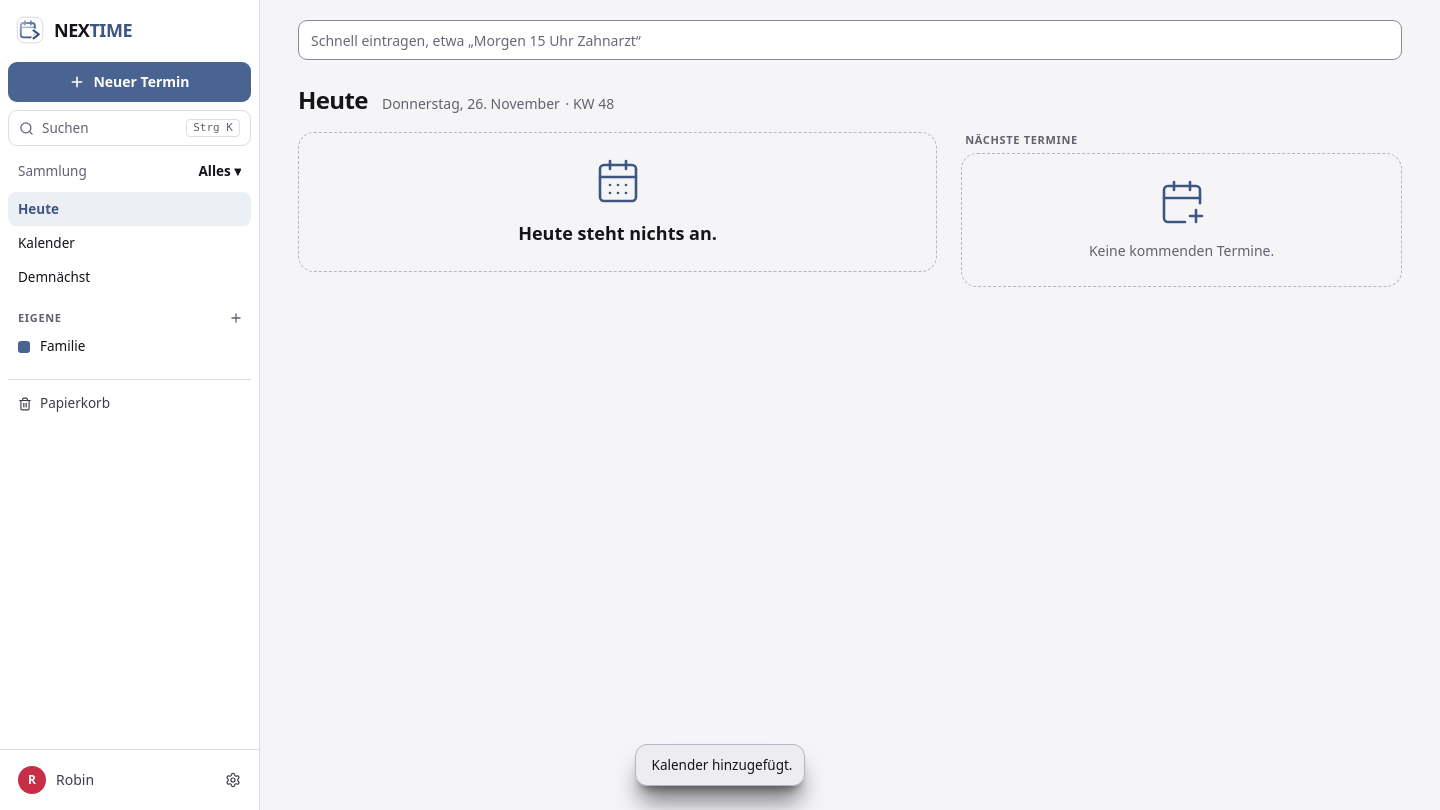
Test case: TIME-17 holidays and school holidays › TIME-17 AC-3 AC-4 EC-17 a country, several states, all 16 to tick without scrolling sideways, the school switch and the sentence
This screenshot has width=1440, height=810.
Later steps or results of the test are not shown.
Click the button named "Kalender hinzufügen" at (236, 318), box [225, 307, 247, 329]
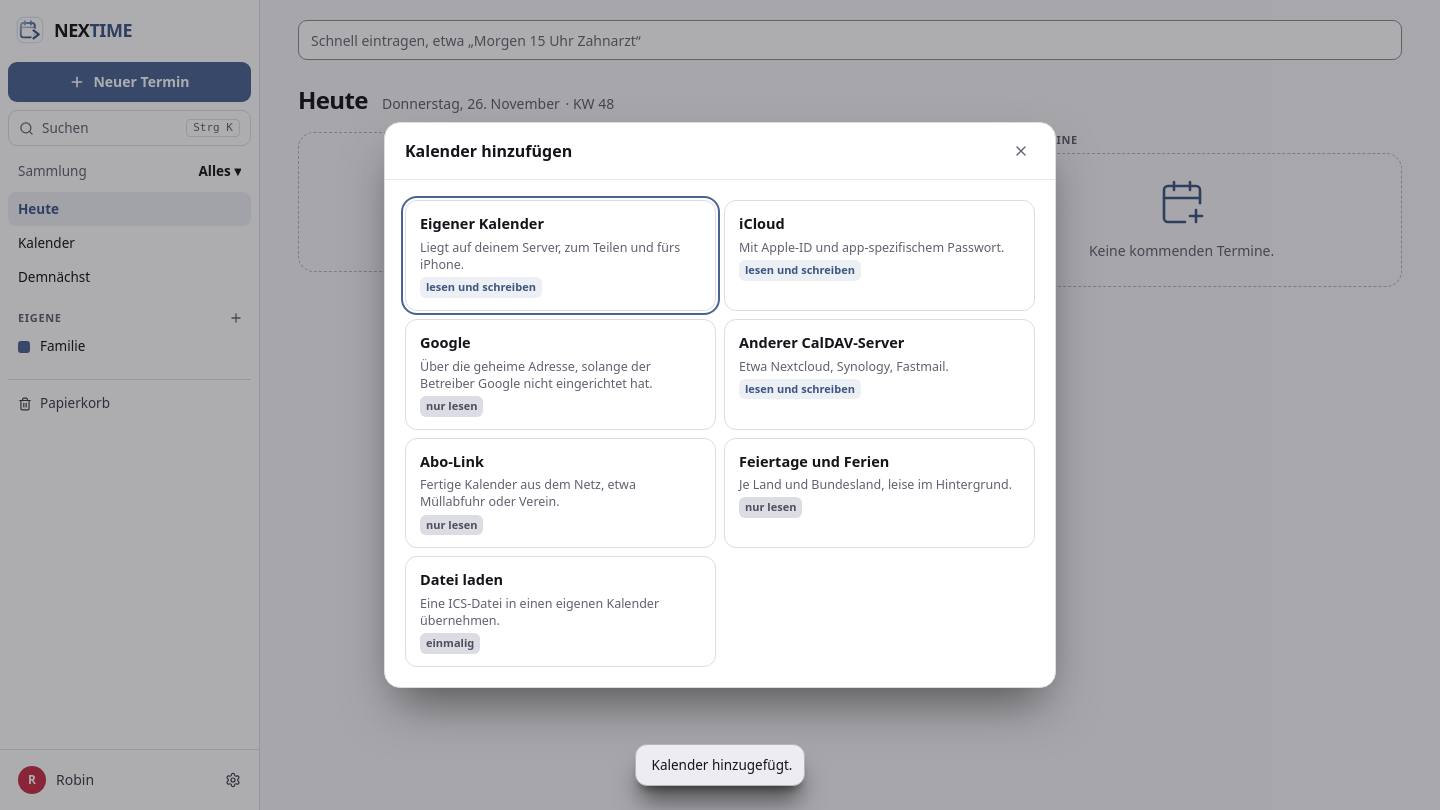
Click the button that starts with "Feiertage und Ferien" at (880, 493), box [724, 438, 1035, 548]
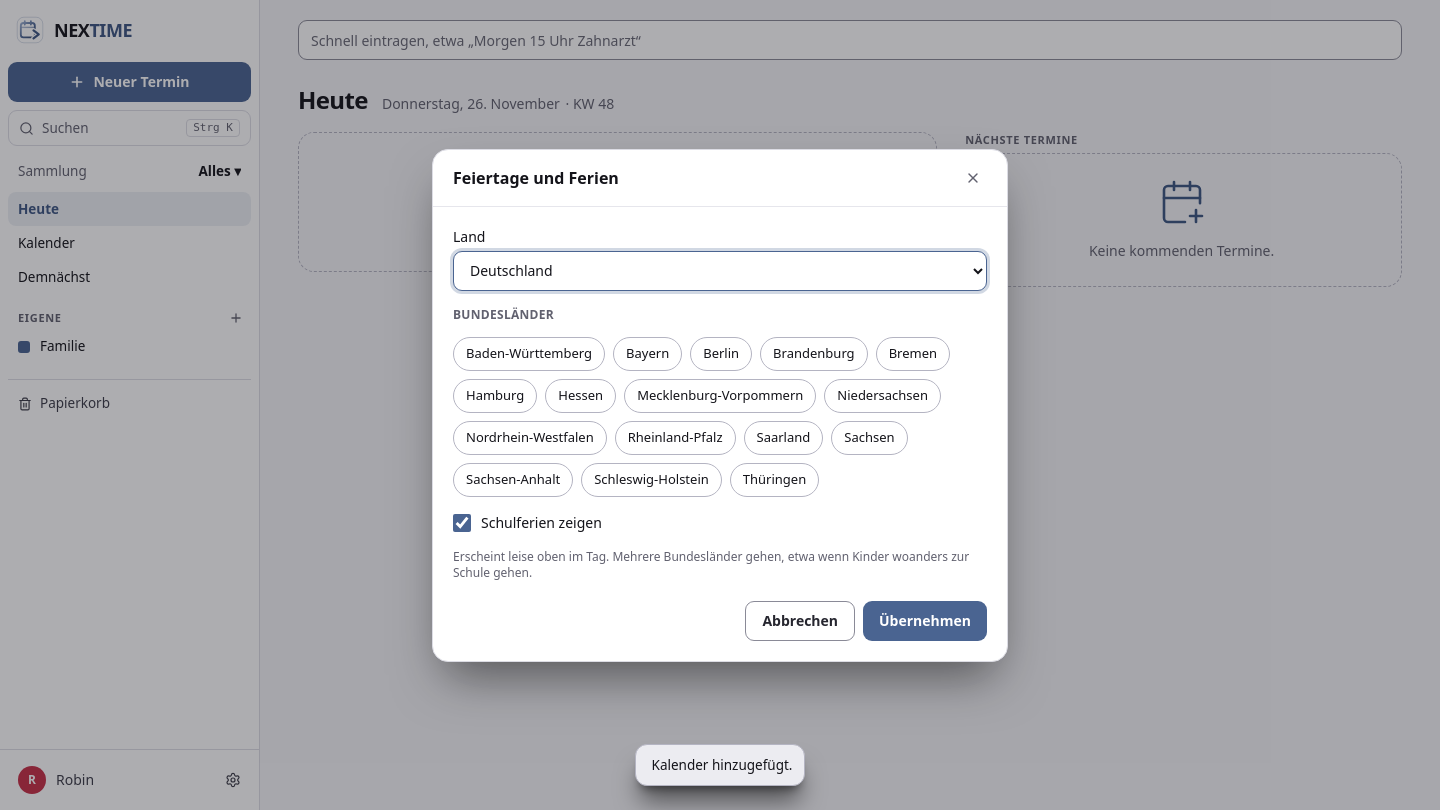
Now the dialog has attribute aria-label="Feiertage und Ferien", box [432, 148, 1008, 662]
